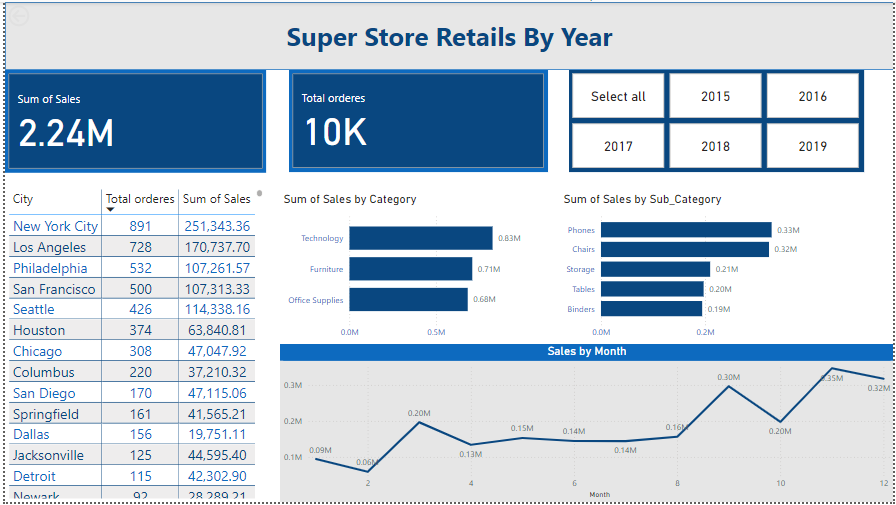

This screenshot's page, from the dashboard's own definition file:
{"tool":"powerbi","page":{"name":"Page 1","canvas":[1280,720],"ordinal":0},"visuals":[{"type":"cardVisual","fields":{"Data":["Sum(orderes_fact.Sales)"]},"box":[0,97.4,376.3,147.8],"z":0},{"type":"barChart","fields":{"Y":["Sum(orderes_fact.Sales)"],"Category":["product_dim.Category"]},"box":[396.4,273.8,366.2,220.1],"z":1000},{"type":"tableEx","fields":{"Values":["location_dim.City","orderes_fact.Total orderes","Sum(orderes_fact.Sales)"]},"box":[0,265.4,376.3,455.2],"z":2000},{"type":"barChart","fields":{"Y":["Sum(orderes_fact.Sales)"],"Category":["product_dim.Sub_Category"]},"box":[799.6,273.8,366.2,220.1],"z":3000},{"type":"lineChart","title":"Sales by Month","fields":{"Category":["Date_dim.Order_Month"],"Y":["Sum(orderes_fact.Sales)"]},"box":[396,492.5,884.2,227.5],"z":4000},{"type":"cardVisual","fields":{"Data":["orderes_fact.Total orderes"]},"box":[409,97.9,373,146.9],"z":5000},{"type":"actionButton","box":[0,0,100,40],"z":6000},{"type":"advancedSlicerVisual","fields":{"Values":["Date_dim.Order_Year"]},"box":[812.2,97.9,424.8,146.9],"z":7000},{"type":"shape","box":[0,0,1280.2,97.9],"z":8000}]}

Visuals, with their boxes in screenshot pixels (x1, y1, x2, y2), scaled from the page's 1280x720 canvas onto the 896x505 screenshot:
cardVisual - Sum(orderes_fact.Sales): 0 68 263 172
barChart - Sum(orderes_fact.Sales) x product_dim.Category: 277 192 534 346
tableEx - location_dim.City x orderes_fact.Total orderes: 0 186 263 504
barChart - Sum(orderes_fact.Sales) x product_dim.Sub_Category: 560 192 816 346
"Sales by Month" lineChart: 277 345 895 504
cardVisual - orderes_fact.Total orderes: 286 69 547 172
actionButton: 0 0 70 28
advancedSlicerVisual - Date_dim.Order_Year: 569 69 866 172
shape: 0 0 895 69
